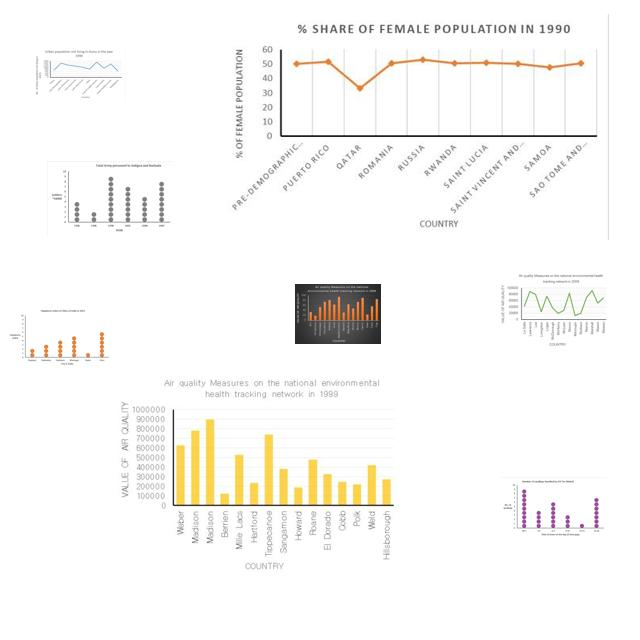Graph: (227, 14, 609, 240), (113, 374, 399, 579), (47, 161, 173, 235), (498, 272, 608, 348), (500, 477, 606, 539), (7, 308, 110, 368), (295, 284, 381, 344), (34, 48, 126, 102)
